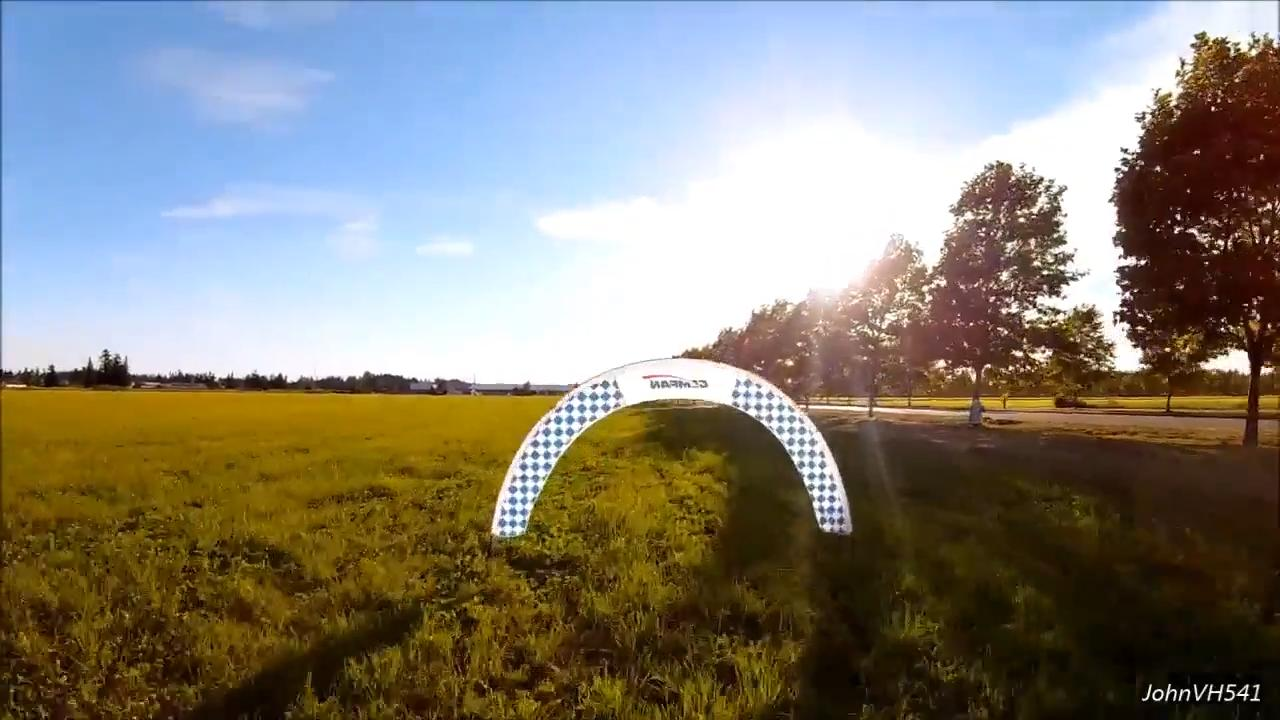gate: (490, 355, 850, 534)
